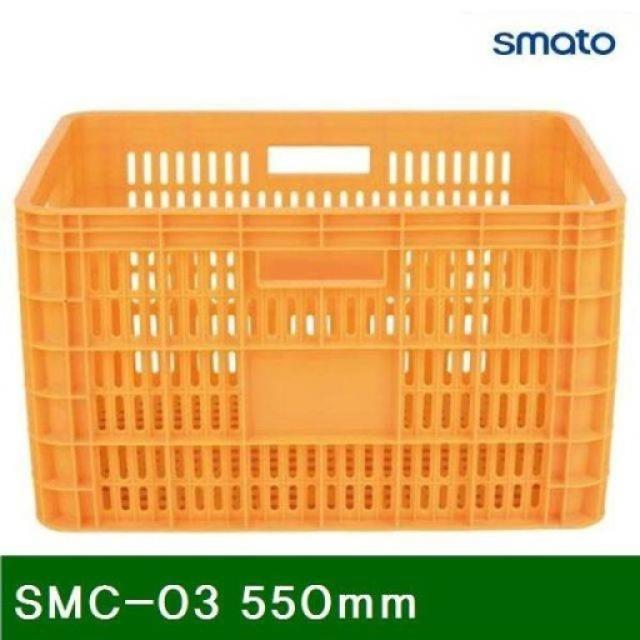basket: (16, 110, 628, 531)
